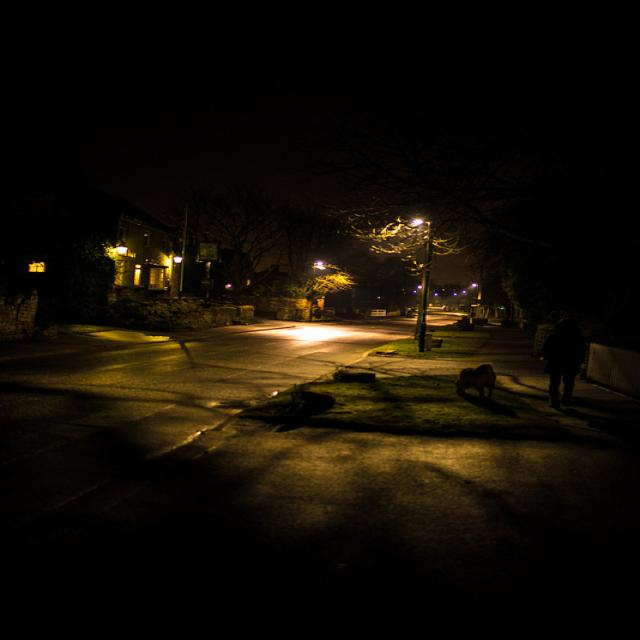dog: (438, 355, 509, 413)
